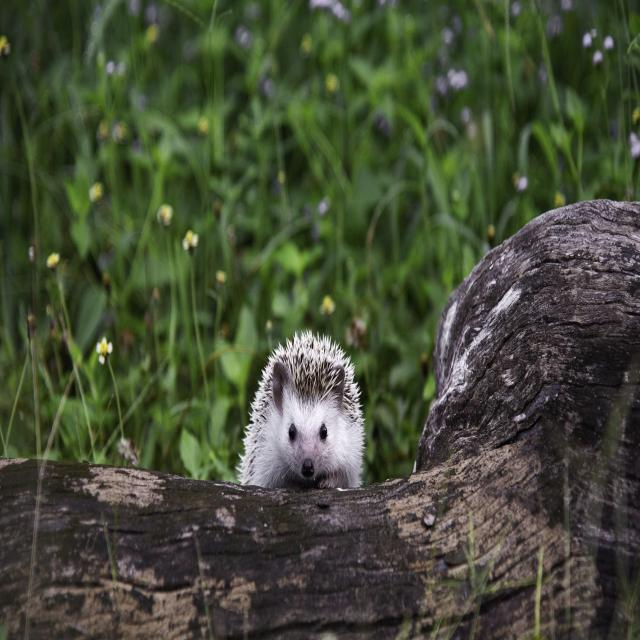Hedgehog: (238, 319, 372, 492)
